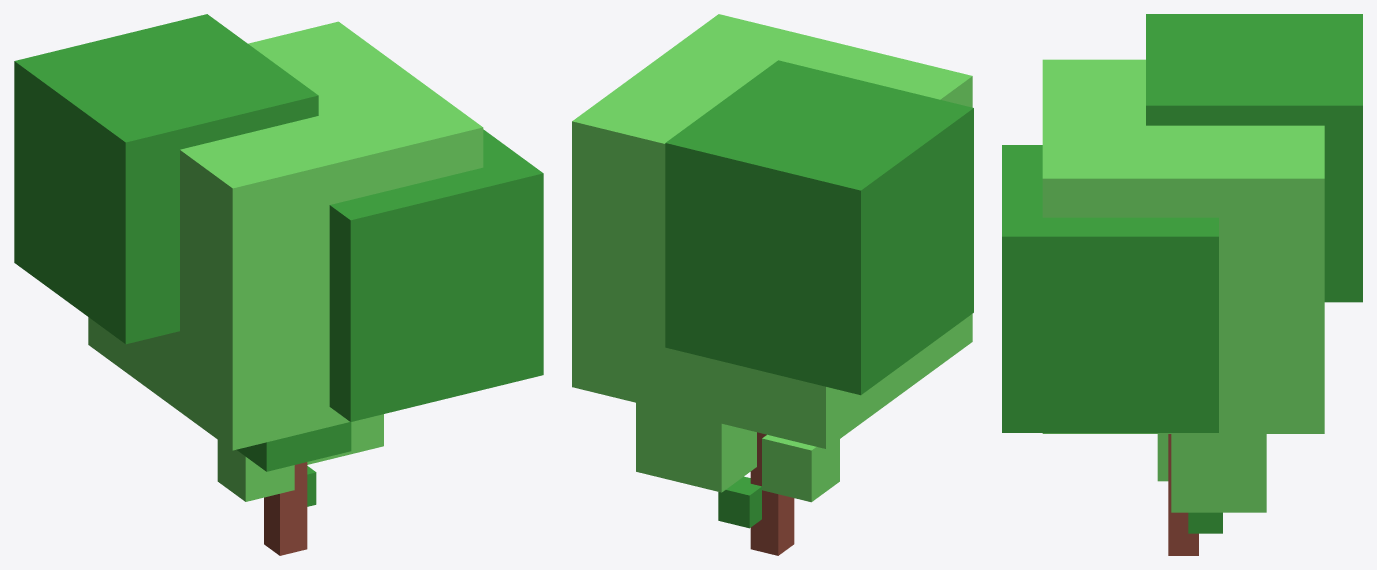
The model's file is Tree_JAM.fbx.
The picture shows the model from 3 angles, left to right: view 1: azimuth 30°, elevation 25°; view 2: azimuth 150°, elevation 25°; view 3: azimuth 270°, elevation 25°; orthographic projection. The views are drawn at different scales.
Visible parts, largest first — view 1: Cube.011; view 2: Cube.011; view 3: Cube.011.
Boxes of the visible parts, x1,y1,x2,y2 form: Cube.011: [14, 14, 543, 555]; Cube.011: [572, 14, 973, 555]; Cube.011: [1002, 14, 1362, 555].
Bounding box in the file's own units: 524 × 673 × 489.
